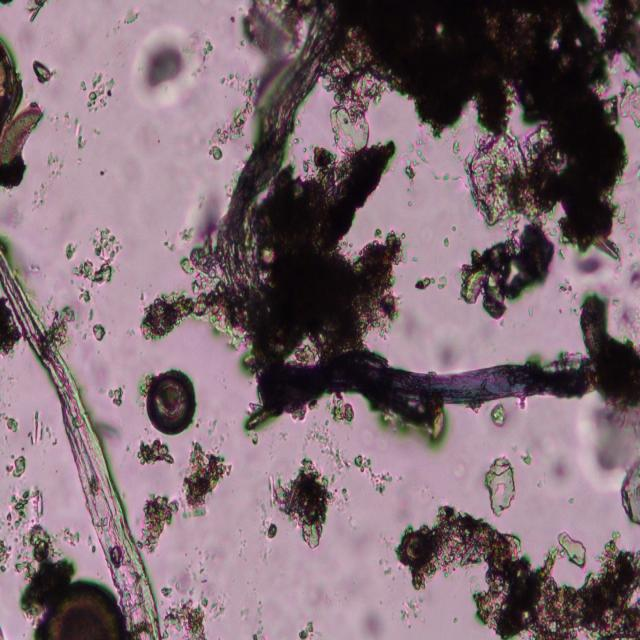Background material: (340, 2, 628, 259), (262, 102, 404, 362), (395, 502, 640, 638), (137, 230, 227, 346), (456, 220, 554, 317), (579, 291, 640, 413), (264, 459, 334, 554), (129, 27, 201, 104), (15, 524, 75, 606), (208, 70, 260, 159), (72, 224, 122, 313), (240, 0, 309, 59), (182, 438, 232, 518), (590, 405, 640, 481), (160, 582, 218, 639), (117, 109, 165, 174), (304, 408, 348, 472), (483, 449, 519, 518), (600, 1, 640, 60), (141, 490, 179, 552), (320, 380, 364, 428), (31, 152, 67, 210), (25, 400, 64, 453), (531, 444, 571, 486), (351, 449, 389, 491), (6, 484, 44, 526), (247, 396, 286, 436), (0, 297, 23, 362), (619, 453, 640, 524), (79, 72, 111, 115), (137, 436, 178, 469), (351, 605, 389, 637), (556, 531, 586, 571), (190, 549, 218, 585), (619, 248, 640, 294), (620, 84, 640, 132), (109, 10, 143, 36), (63, 115, 87, 151), (413, 272, 449, 296), (419, 150, 436, 200), (31, 58, 55, 87), (0, 522, 13, 573), (198, 38, 215, 76), (582, 264, 604, 290), (4, 455, 28, 478), (489, 403, 508, 430), (88, 320, 108, 342), (27, 0, 46, 23), (108, 383, 124, 409), (0, 416, 23, 434), (296, 620, 317, 639), (337, 483, 351, 510), (264, 522, 280, 540), (64, 242, 76, 260)
Cellulose filter fibre: (0, 249, 160, 638), (218, 0, 339, 307)
Cotton: (268, 357, 587, 414)
Diatom: (32, 576, 126, 638), (146, 366, 196, 434), (0, 106, 42, 166), (0, 36, 16, 121)
